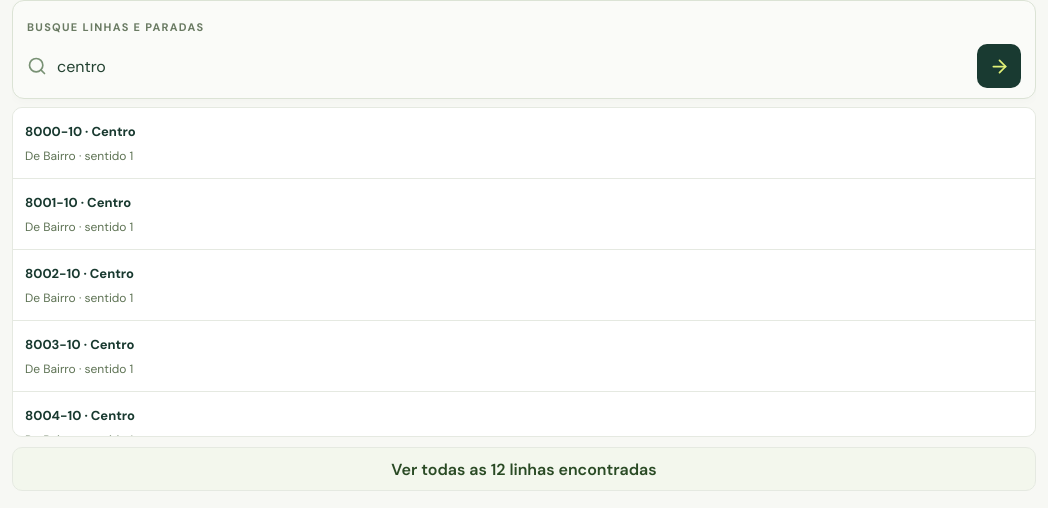
Scenario: oferece acesso a todas as linhas quando as sugestões ultrapassam oito
The width and height of the screenshot is (1048, 508).
Click the button "Ver todas as 12 linhas encontradas" at (524, 469), box [12, 447, 1036, 491]
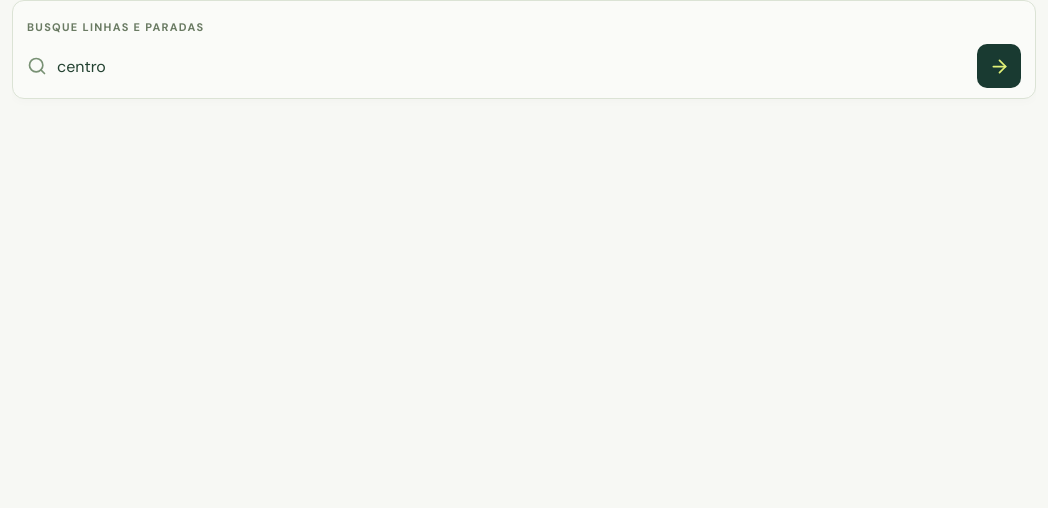
expect the option is gone: met
